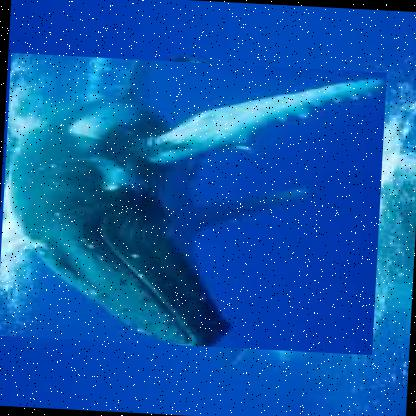sperm_whale: (0, 51, 387, 355)
